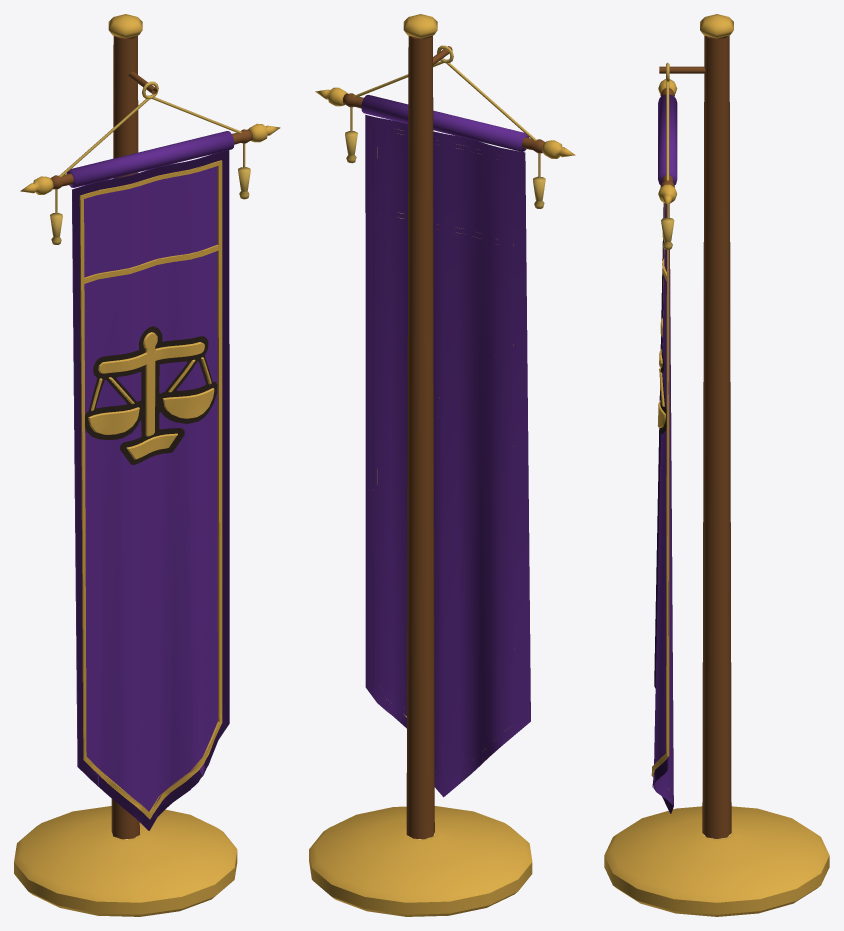
Rendered from km_gonfalon_merchants-Ch8em8im.glb.
3 views of the same model, side by side, from view 1: azimuth 30°, elevation 25°; view 2: azimuth 150°, elevation 25°; view 3: azimuth 270°, elevation 25° (orthographic).
Visible parts, largest first — view 1: merchants_cloth, merchants_stand_foot, merchants_hem, merchants_gold_trim, merchants_sigil_gold, merchants_sigil_backing, merchants_stand_pole, merchants_sleeve, merchants_cord, merchants_finials, merchants_stand_knob, merchants_tassels; view 2: merchants_cloth, merchants_stand_pole, merchants_stand_foot, merchants_sleeve, merchants_cord, merchants_finials, merchants_stand_knob, merchants_tassels; view 3: merchants_stand_pole, merchants_stand_foot, merchants_cloth, merchants_gold_trim, merchants_sleeve, merchants_hem, merchants_stand_knob, merchants_cord.
Boxes of the visible parts, left/top/right/bottom form: merchants_cloth: left=72, top=150, right=226, bottom=830; merchants_stand_foot: left=14, top=806, right=237, bottom=916; merchants_hem: left=72, top=150, right=229, bottom=830; merchants_gold_trim: left=79, top=160, right=222, bottom=819; merchants_sigil_gold: left=88, top=332, right=214, bottom=459; merchants_sigil_backing: left=85, top=326, right=217, bottom=464; merchants_stand_pole: left=111, top=35, right=157, bottom=839; merchants_sleeve: left=66, top=131, right=234, bottom=187; merchants_cord: left=55, top=81, right=245, bottom=213; merchants_finials: left=20, top=123, right=280, bottom=194; merchants_stand_knob: left=108, top=14, right=142, bottom=38; merchants_tassels: left=50, top=167, right=250, bottom=244; merchants_cloth: left=365, top=115, right=530, bottom=797; merchants_stand_pole: left=406, top=35, right=452, bottom=839; merchants_stand_foot: left=309, top=806, right=532, bottom=916; merchants_sleeve: left=361, top=95, right=529, bottom=151; merchants_cord: left=350, top=45, right=540, bottom=177; merchants_finials: left=315, top=87, right=575, bottom=158; merchants_stand_knob: left=403, top=14, right=437, bottom=38; merchants_tassels: left=345, top=131, right=545, bottom=208; merchants_stand_pole: left=659, top=35, right=731, bottom=838; merchants_stand_foot: left=604, top=806, right=829, bottom=916; merchants_cloth: left=653, top=203, right=673, bottom=813; merchants_gold_trim: left=651, top=203, right=673, bottom=795; merchants_sleeve: left=658, top=94, right=677, bottom=185; merchants_hem: left=652, top=203, right=673, bottom=813; merchants_stand_knob: left=700, top=14, right=733, bottom=38; merchants_cord: left=666, top=62, right=669, bottom=218.
Bounding box in the file's own units: 0.107 × 0.335 × 0.08.
